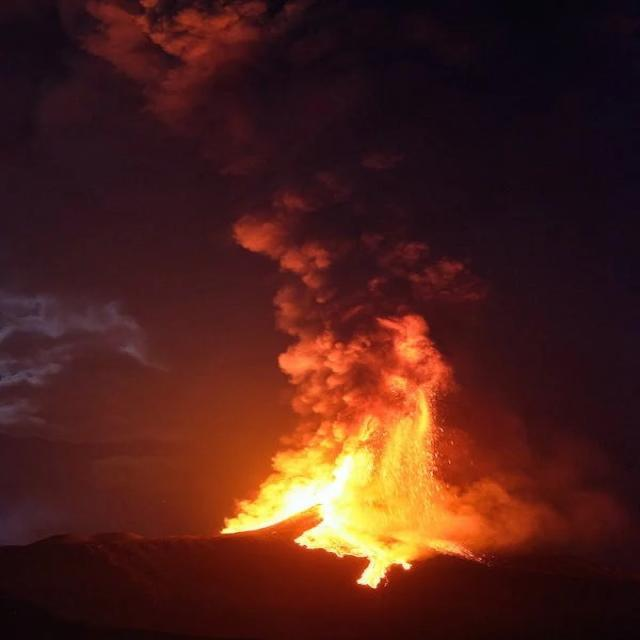Fire: (216, 396, 524, 585)
Smoke: (0, 0, 640, 396)
